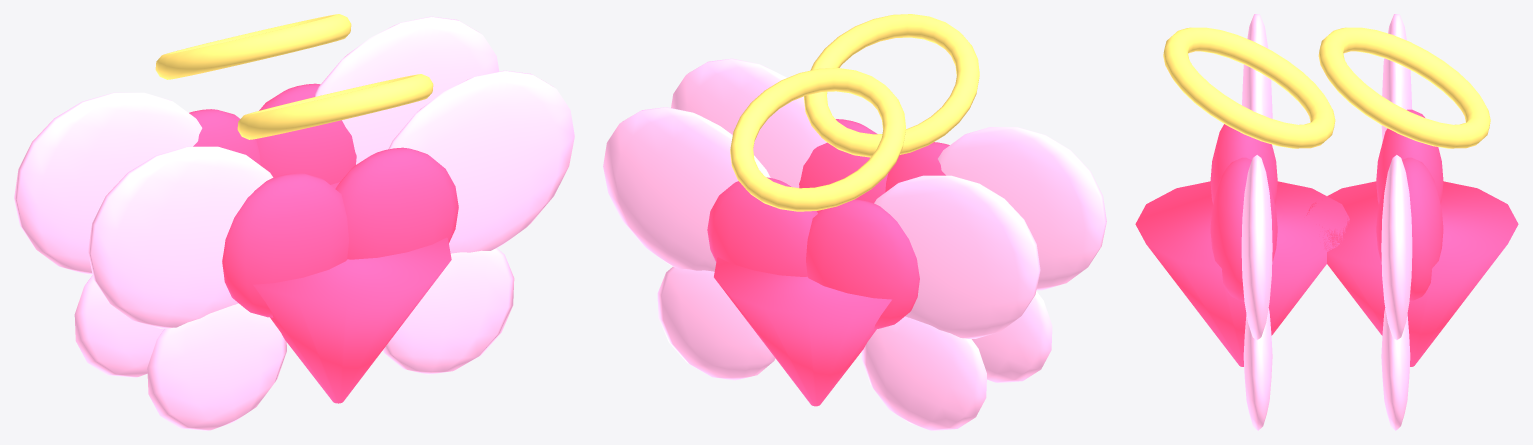
The model's file is hedgeguard_emblem_12.glb.
3 renders of one model, left to right at view 1: azimuth 30°, elevation 25°; view 2: azimuth 150°, elevation 25°; view 3: azimuth 270°, elevation 25°, orthographic. The views are drawn at different scales.
Visible parts, largest first — view 1: EmblemCatheterpillar; view 2: EmblemCatheterpillar; view 3: EmblemCatheterpillar.
Part boxes in pixels (x1,y1,x2,y2): EmblemCatheterpillar: (14, 14, 574, 430); EmblemCatheterpillar: (603, 14, 1106, 430); EmblemCatheterpillar: (1135, 14, 1518, 430).
Bounding box in the file's own units: 1.02 × 0.6958 × 0.74.
